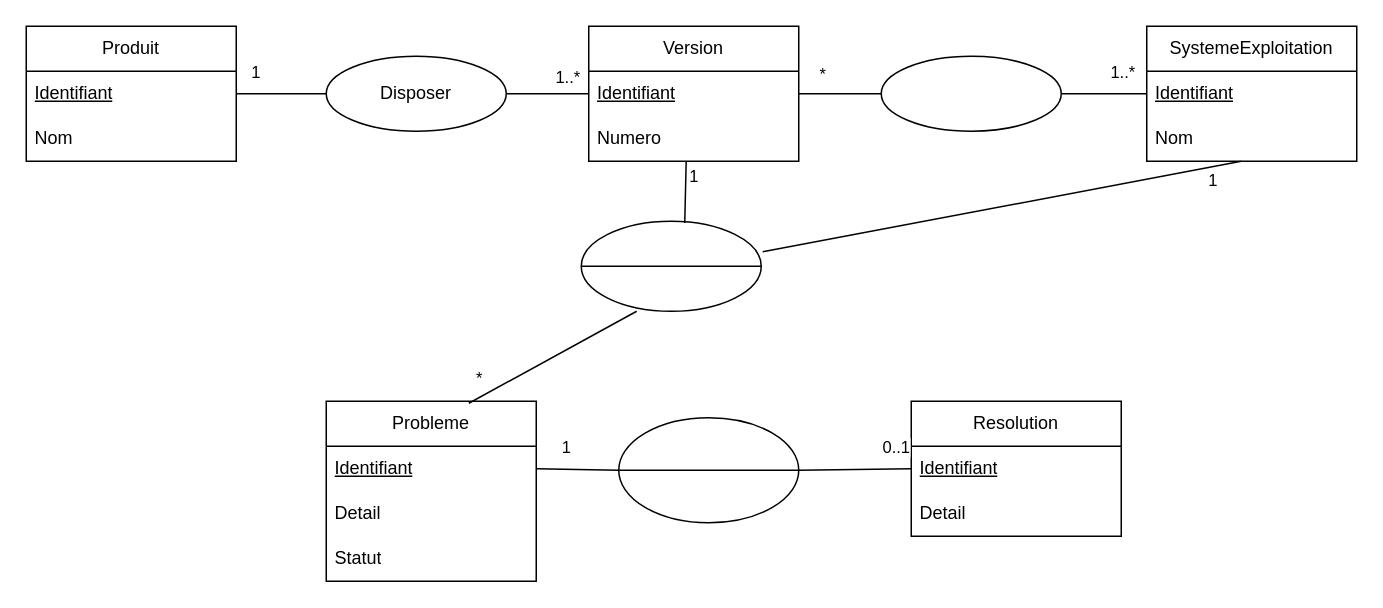
The diagram is 1383 pixels wide and 608 high, and some of its shapes have lost their labels. Each missing label, with the centre of its shape:
"Etre compatible" belongs at (x=970, y=93).
"Resoudre Date" belongs at (x=708, y=469).
"Se produire Date" belongs at (x=670, y=265).
